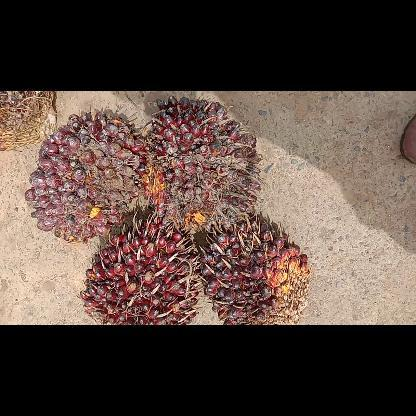Kurang masak: (138, 96, 262, 234), (78, 216, 202, 324)
TBS mentah: (22, 106, 152, 244), (197, 212, 315, 324)
